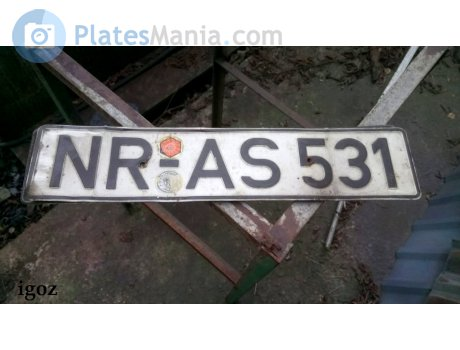License Plates: (45, 132, 402, 192)
